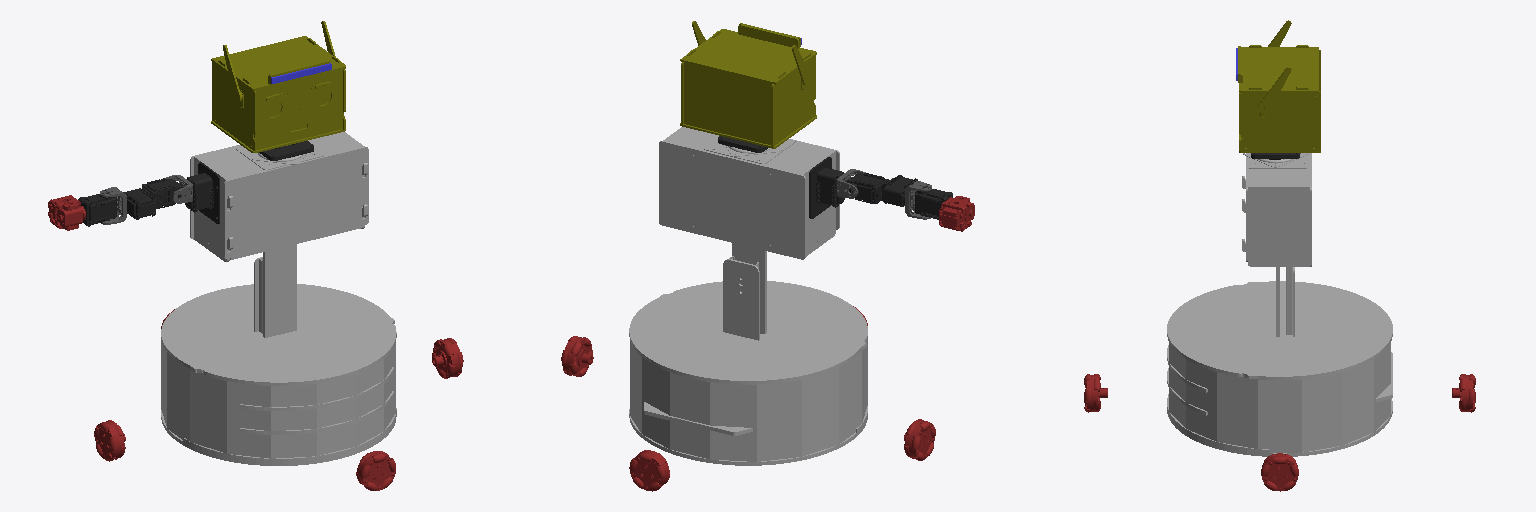
The robot description file, URDF, robot "v2mini":
<?xml version="1.0" ?>
<!-- =================================================================================== -->
<!-- |    This document was autogenerated by xacro from v2mini_robot.urdf.xacro        | -->
<!-- |    EDITING THIS FILE BY HAND IS NOT RECOMMENDED                                 | -->
<!-- =================================================================================== -->
<robot name="v2mini" xmlns:xacro="http://www.ros.org/wiki/xacro">
  <!-- materials -->
  <material name="white">
    <color rgba="0.7 0.7 0.7 1"/>
  </material>
  <material name="blue">
    <color rgba="0.3 0.3 0.9 1"/>
  </material>
  <material name="black">
    <color rgba="0.2 0.2 0.2 1"/>
  </material>
  <material name="grey">
    <color rgba="0.4 0.4 0.4 1"/>
  </material>
  <material name="yellow">
    <color rgba="0.5 0.5 0.1 1"/>
  </material>
  <material name="red">
    <color rgba="0.6 0.2 0.2 1"/>
  </material>
  <!-- v2mini body -->
  <!-- base properties -->
  <!-- wheel properties -->
  <!-- torso properties -->
  <!-- Macro for creating base wheels -->
  <!-- v2mini arm -->
  <!-- macro for the rest of the links -->
  <!-- v2mini head -->
  <!-- r200 sensor -->
  <!-- THE CAMERA FRAME VALUES BELOW MAY BE INACCURATE -->
  <!-- join the body with arm -->
  <joint name="body_with_arm" type="fixed">
    <parent link="torso_link"/>
    <child link="arm_link1"/>
    <origin xyz="0 0 0"/>
  </joint>
  <!-- join the body with head -->
  <joint name="body_with_head" type="revolute">
    <parent link="torso_link"/>
    <child link="neck_link"/>
    <axis xyz="0 0 1"/>
    <origin xyz="0 0 0"/>
    <limit effort="10" lower="-2.9" upper="2.9" velocity="10"/>
  </joint>
  <joint name="camera_joint" type="fixed">
    <origin rpy="0 0 0" xyz="0 -0.0668 0.0877"/>
    <parent link="head_link"/>
    <child link="camera_link"/>
  </joint>
  <!-- **** BASE **** -->
  <link name="base_link">
    <!-- fake inertial values -->
    <inertial>
      <mass value="1"/>
      <inertia ixx="100" ixy="0" ixz="0" iyy="100" iyz="0" izz="100"/>
      <origin/>
    </inertial>
    <visual>
      <origin rpy="0 0 0" xyz="0 0 0.0192"/>
      <geometry>
        <mesh filename="package://v2mini_description/meshes/base/base.stl"/>
      </geometry>
      <material name="white"/>
    </visual>
    <collision>
      <origin rpy="0 0 0" xyz="0 0 0.066"/>
      <geometry>
        <cylinder length="0.132" radius="0.175"/>
      </geometry>
    </collision>
  </link>
  <link name="front_wheel">
    <visual>
      <origin rpy="0 0 0.0" xyz="0 0 0"/>
      <geometry>
        <mesh filename="package://v2mini_description/meshes/base/base_wheel.stl"/>
      </geometry>
      <material name="red"/>
    </visual>
  </link>
  <joint name="front_axel" type="continuous">
    <parent link="base_link"/>
    <child link="front_wheel"/>
    <origin xyz="-0.0 -0.1405 0.03"/>
    <axis xyz="0.0 1 0"/>
  </joint>
  <link name="back_wheel">
    <visual>
      <origin rpy="0 0 3.14159" xyz="0 0 0"/>
      <geometry>
        <mesh filename="package://v2mini_description/meshes/base/base_wheel.stl"/>
      </geometry>
      <material name="red"/>
    </visual>
  </link>
  <joint name="back_axel" type="continuous">
    <parent link="base_link"/>
    <child link="back_wheel"/>
    <origin xyz="0.0 0.1405 0.03"/>
    <axis xyz="0.0 1 0"/>
  </joint>
  <link name="right_wheel">
    <visual>
      <origin rpy="0 0 -1.570795" xyz="0 0 0"/>
      <geometry>
        <mesh filename="package://v2mini_description/meshes/base/base_wheel.stl"/>
      </geometry>
      <material name="red"/>
    </visual>
  </link>
  <joint name="right_axel" type="continuous">
    <parent link="base_link"/>
    <child link="right_wheel"/>
    <origin xyz="-0.1405 -0.0 0.03"/>
    <axis xyz="1.0 0 0"/>
  </joint>
  <link name="left_wheel">
    <visual>
      <origin rpy="0 0 1.570795" xyz="0 0 0"/>
      <geometry>
        <mesh filename="package://v2mini_description/meshes/base/base_wheel.stl"/>
      </geometry>
      <material name="red"/>
    </visual>
  </link>
  <joint name="left_axel" type="continuous">
    <parent link="base_link"/>
    <child link="left_wheel"/>
    <origin xyz="0.1405 0.0 0.03"/>
    <axis xyz="1.0 0 0"/>
  </joint>
  <!-- **** TORSO **** -->
  <link name="torso_link">
    <!-- fake inertial values -->
    <inertial>
      <mass value="1"/>
      <inertia ixx="100" ixy="0" ixz="0" iyy="100" iyz="0" izz="100"/>
      <origin/>
    </inertial>
    <visual>
      <origin rpy="0 0 0" xyz="0 0 0"/>
      <geometry>
        <mesh filename="package://v2mini_description/meshes/torso/torso.stl"/>
      </geometry>
      <material name="white"/>
    </visual>
  </link>
  <joint name="torso_slide" type="prismatic">
    <parent link="base_link"/>
    <child link="torso_link"/>
    <origin xyz="0 0 0.0192"/>
    <axis xyz="0 0 1"/>
    <limit effort="10" lower="-0.09" upper="0" velocity="0.5"/>
  </joint>
  <link name="arm_link1">
    <visual>
      <origin rpy="0 0 0" xyz="0 0 0"/>
      <geometry>
        <mesh filename="package://v2mini_description/meshes/arm/arm_link1.stl"/>
      </geometry>
      <material name="black"/>
    </visual>
    <collision>
      <origin rpy="0 0 0" xyz="0 0 0"/>
      <geometry>
        <mesh filename="package://v2mini_description/meshes/arm/arm_link1.stl"/>
      </geometry>
    </collision>
  </link>
  <!-- first additional joint at offset -->
  <link name="arm_link2">
    <visual>
      <origin rpy="0 3.14159 0" xyz="0 0 0"/>
      <geometry>
        <mesh filename="package://v2mini_description/meshes/arm/arm_link2.stl"/>
      </geometry>
      <material name="grey"/>
    </visual>
    <collision>
      <origin rpy="0 3.14159 0" xyz="0 0 0"/>
      <geometry>
        <mesh filename="package://v2mini_description/meshes/arm/arm_link2.stl"/>
      </geometry>
    </collision>
  </link>
  <joint name="arm_joint1" type="revolute">
    <parent link="arm_link1"/>
    <child link="arm_link2"/>
    <origin rpy="3.14159 3.14159 0" xyz="-0.158825 -0.002 0.407507"/>
    <limit effort="1000.0" lower="-3.1" upper="3.1" velocity="0.1"/>
  </joint>
  <link name="arm_link3">
    <visual>
      <origin rpy="0 -1.570795  -1.570795" xyz="0 0 0"/>
      <geometry>
        <mesh filename="package://v2mini_description/meshes/arm/arm_link3.stl"/>
      </geometry>
      <material name="black"/>
    </visual>
    <collision>
      <origin rpy="0 -1.570795  -1.570795" xyz="0 0 0"/>
      <geometry>
        <mesh filename="package://v2mini_description/meshes/arm/arm_link3.stl"/>
      </geometry>
    </collision>
  </link>
  <joint name="arm_joint2" type="revolute">
    <parent link="arm_link2"/>
    <child link="arm_link3"/>
    <origin rpy="1.570795 0 4.712385" xyz="0.026 0 0"/>
    <axis xyz="-1 0 0"/>
    <limit effort="1000.0" lower="-1.7" upper="1.7" velocity="0.1"/>
  </joint>
  <link name="arm_link4">
    <visual>
      <origin rpy="1.570795 3.14159  0" xyz="0 0 0"/>
      <geometry>
        <mesh filename="package://v2mini_description/meshes/arm/arm_link4.stl"/>
      </geometry>
      <material name="grey"/>
    </visual>
    <collision>
      <origin rpy="1.570795 3.14159  0" xyz="0 0 0"/>
      <geometry>
        <mesh filename="package://v2mini_description/meshes/arm/arm_link4.stl"/>
      </geometry>
    </collision>
  </link>
  <joint name="arm_joint3" type="revolute">
    <parent link="arm_link3"/>
    <child link="arm_link4"/>
    <origin rpy="0 1.570795 0" xyz=" 0 0 -0.0855"/>
    <axis xyz="1 0 0"/>
    <limit effort="1000.0" lower="-3.1" upper="3.1" velocity="0.1"/>
  </joint>
  <link name="arm_link5">
    <visual>
      <origin rpy="-1.570795 0 -1.570795" xyz="0 0 0"/>
      <geometry>
        <mesh filename="package://v2mini_description/meshes/arm/arm_link5.stl"/>
      </geometry>
      <material name="black"/>
    </visual>
    <collision>
      <origin rpy="-1.570795 0 -1.570795" xyz="0 0 0"/>
      <geometry>
        <mesh filename="package://v2mini_description/meshes/arm/arm_link5.stl"/>
      </geometry>
    </collision>
  </link>
  <joint name="arm_joint4" type="revolute">
    <parent link="arm_link4"/>
    <child link="arm_link5"/>
    <origin rpy=" -1.570795 0 1.570795" xyz="0.026 0 0"/>
    <axis xyz="-1 0 0"/>
    <limit effort="1000.0" lower="-3" upper="3" velocity="0.1"/>
  </joint>
  <link name="arm_link6">
    <visual>
      <origin rpy="1.570795 1.570795 0" xyz="0 0 0"/>
      <geometry>
        <mesh filename="package://v2mini_description/meshes/arm/arm_link6.stl"/>
      </geometry>
      <material name="red"/>
    </visual>
    <collision>
      <origin rpy="1.570795 1.570795 0" xyz="0 0 0"/>
      <geometry>
        <mesh filename="package://v2mini_description/meshes/arm/arm_link6.stl"/>
      </geometry>
    </collision>
  </link>
  <joint name="arm_joint5" type="revolute">
    <parent link="arm_link5"/>
    <child link="arm_link6"/>
    <origin rpy="-1.570795 -1.570795 0" xyz="0  0 -0.0415"/>
    <axis xyz="-1 0 0"/>
    <limit effort="1000.0" lower="-3.1" upper="3.1" velocity="0.1"/>
  </joint>
  <joint name="ee_joint" type="fixed">
    <parent link="arm_link6"/>
    <child link="ee_link"/>
    <origin rpy="0 0 0" xyz="0 0 0"/>
  </joint>
  <!-- Add end effector -->
  <link name="ee_link">
    <collision>
      <geometry>
        <box size="0.01 0.01 0.01"/>
      </geometry>
      <origin rpy="0 0 0" xyz="0 0 0"/>
    </collision>
  </link>
  <link name="neck_link">
    <visual>
      <origin rpy="0 0 0" xyz="0 0 0"/>
      <geometry>
        <mesh filename="package://v2mini_description/meshes/head/neck.stl"/>
      </geometry>
      <material name="black"/>
    </visual>
  </link>
  <link name="head_link">
    <visual>
      <origin rpy="0 0 0" xyz="0 0 0"/>
      <geometry>
        <mesh filename="package://v2mini_description/meshes/head/head.stl"/>
      </geometry>
      <material name="yellow"/>
    </visual>
  </link>
  <joint name="neck_tilt" type="revolute">
    <parent link="neck_link"/>
    <child link="head_link"/>
    <axis xyz="1 0 0"/>
    <origin xyz="0 0 0.495215"/>
    <limit effort="1000.0" lower="0.3" upper="-0.5" velocity="0.1"/>
  </joint>
  <link name="camera_link">
    <visual>
      <origin rpy="1.570795 0 0" xyz="0 0 0"/>
      <geometry>
        <box size="0.102 0.0095 0.0038"/>
      </geometry>
      <material name="blue"/>
    </visual>
  </link>
  <link name="camera_rgb_frame"/>
  <link name="camera_rgb_optical_frame"/>
  <link name="camera_depth_optical_frame"/>
  <link name="camera_depth_frame"/>
  <link name="camera_ir_optical_frame"/>
  <link name="camera_ir_frame"/>
  <link name="camera_ir2_optical_frame"/>
  <link name="camera_ir2_frame"/>
  <joint name="camera_rgb_joint" type="fixed">
    <origin rpy="0 0 0" xyz="0 0 0"/>
    <parent link="camera_link"/>
    <child link="camera_rgb_frame"/>
  </joint>
  <joint name="camera_rgb_optical_joint" type="fixed">
    <origin rpy="0 0 0" xyz="0 0 0"/>
    <parent link="camera_rgb_frame"/>
    <child link="camera_rgb_optical_frame"/>
  </joint>
  <joint name="camera_depth_joint" type="fixed">
    <origin rpy="0 0 0" xyz="0 0 0"/>
    <parent link="camera_rgb_frame"/>
    <child link="camera_depth_frame"/>
  </joint>
  <joint name="camera_depth_optical_joint" type="fixed">
    <origin rpy="0 0 0" xyz="0 0 0"/>
    <parent link="camera_depth_frame"/>
    <child link="camera_depth_optical_frame"/>
  </joint>
  <joint name="camera_ir_joint" type="fixed">
    <origin rpy="0 0 0" xyz="0 0 0"/>
    <parent link="camera_rgb_frame"/>
    <child link="camera_ir_frame"/>
  </joint>
  <joint name="camera_ir_optical_joint" type="fixed">
    <origin rpy="0 0 0" xyz="0 0 0"/>
    <parent link="camera_ir_frame"/>
    <child link="camera_ir_optical_frame"/>
  </joint>
  <joint name="camera_ir2_joint" type="fixed">
    <origin rpy="0 0 0" xyz="0 0 0"/>
    <parent link="camera_rgb_frame"/>
    <child link="camera_ir2_frame"/>
  </joint>
  <joint name="camera_ir2_optical_joint" type="fixed">
    <origin rpy="0 0 0" xyz="0 0 0"/>
    <parent link="camera_ir2_frame"/>
    <child link="camera_ir2_optical_frame"/>
  </joint>
</robot>

--- What the picture shows (computed from the rendered views, not written in the file) ---
3 views of the same robot in one strip: view 1: azimuth 30°, elevation 25°; view 2: azimuth 150°, elevation 25°; view 3: azimuth 270°, elevation 25° (orthographic).
Model v2mini with 24 links and 23 joints (7 revolute, 4 continuous, 1 prismatic, 11 fixed), rooted at base_link, posed every joint at zero.
Links seen in each view (by area): view 1: base_link, torso_link, head_link, arm_link3, arm_link1, front_wheel, arm_link6, right_wheel, left_wheel, arm_link5, neck_link; view 2: base_link, torso_link, head_link, arm_link3, arm_link1, back_wheel, right_wheel, left_wheel, arm_link6, arm_link5; view 3: base_link, head_link, torso_link, left_wheel, front_wheel, back_wheel.
Link boxes in pixels (<box>): base_link: <box>161,257,396,465</box>; torso_link: <box>190,132,368,337</box>; head_link: <box>211,21,345,152</box>; arm_link3: <box>123,178,183,219</box>; arm_link1: <box>185,162,219,223</box>; front_wheel: <box>356,451,395,490</box>; arm_link6: <box>48,195,85,230</box>; right_wheel: <box>94,420,125,461</box>; left_wheel: <box>432,338,463,378</box>; arm_link5: <box>78,193,116,226</box>; neck_link: <box>259,141,313,160</box>; base_link: <box>629,256,867,465</box>; torso_link: <box>659,127,839,333</box>; head_link: <box>680,21,816,148</box>; arm_link3: <box>847,173,917,206</box>; arm_link1: <box>809,157,844,218</box>; back_wheel: <box>629,450,669,491</box>; right_wheel: <box>904,419,935,460</box>; left_wheel: <box>561,336,593,376</box>; arm_link6: <box>939,196,974,231</box>; arm_link5: <box>915,187,952,219</box>; base_link: <box>1167,267,1392,456</box>; head_link: <box>1238,20,1320,152</box>; torso_link: <box>1242,153,1311,336</box>; left_wheel: <box>1261,453,1298,491</box>; front_wheel: <box>1084,374,1107,412</box>; back_wheel: <box>1452,374,1475,412</box>.
Bounding box of the posed robot: 0.6806 × 0.6055 × 0.6259 m (x, y, z).
Meshes: 11 distinct files referenced, 14 mesh visuals loaded (11 binary STL).